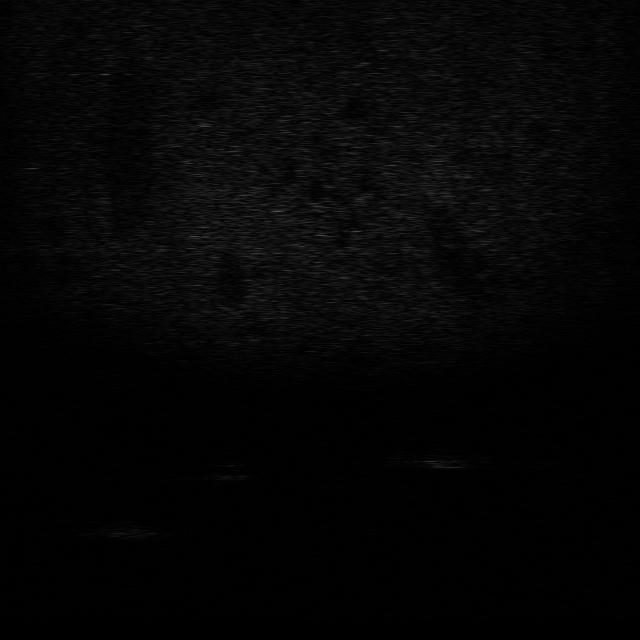ball: (194, 457, 255, 487)
circle cage: (74, 513, 160, 543)
human body: (380, 444, 491, 471)
